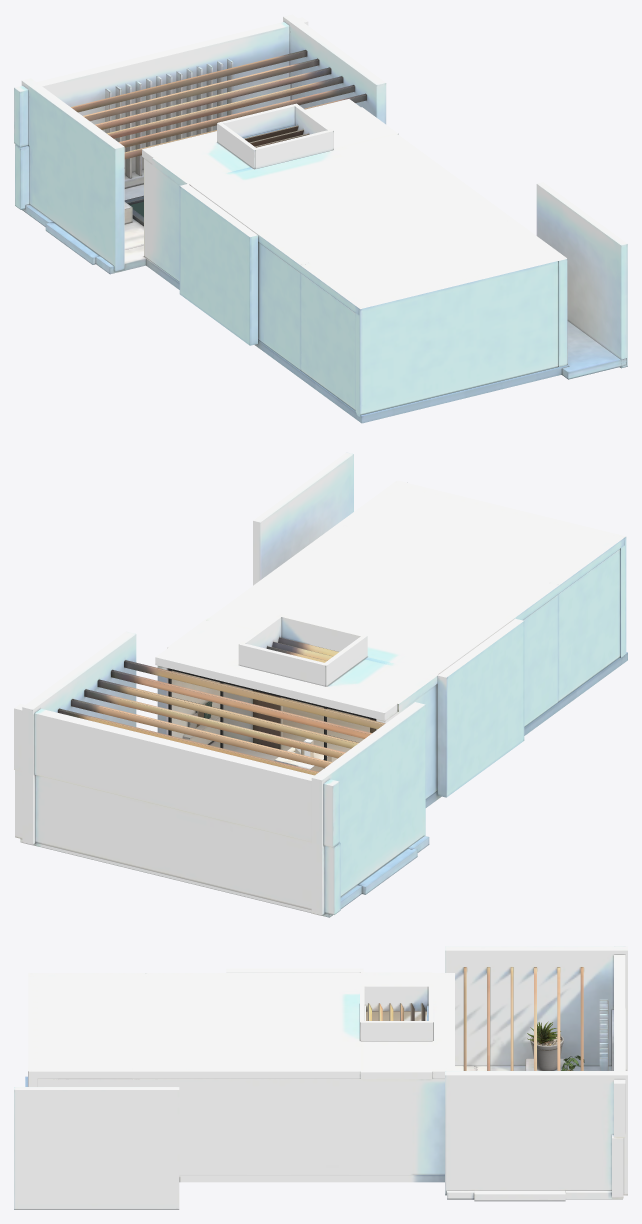
File: studio_pov_mobile.glb
The picture shows the model from 3 angles, top to bottom: view 1: azimuth 30°, elevation 25°; view 2: azimuth 150°, elevation 25°; view 3: azimuth 270°, elevation 25°; orthographic projection. The views are drawn at different scales.
Parts seen in each view (by area): view 1: Set_01_Shell_Baked, Set_04_Courtyard_Baked, Set_02_Joinery_Baked; view 2: Set_01_Shell_Baked, Set_04_Courtyard_Baked, Set_02_Joinery_Baked, Set_03_Monoliths_Baked; view 3: Set_01_Shell_Baked, Set_04_Courtyard_Baked, Set_02_Joinery_Baked, PH_Courtyard_Plant_W1.
Part boxes in pixels (x1=…): Set_01_Shell_Baked: x1=142, y1=99, x2=569, y2=423; Set_04_Courtyard_Baked: x1=14, y1=14, x2=627, y2=379; Set_02_Joinery_Baked: x1=71, y1=50, x2=366, y2=159; Set_01_Shell_Baked: x1=155, y1=480, x2=627, y2=807; Set_04_Courtyard_Baked: x1=14, y1=452, x2=429, y2=917; Set_02_Joinery_Baked: x1=58, y1=637, x2=385, y2=775; Set_03_Monoliths_Baked: x1=183, y1=701, x2=331, y2=771; Set_01_Shell_Baked: x1=25, y1=968, x2=454, y2=1182; Set_04_Courtyard_Baked: x1=14, y1=946, x2=627, y2=1209; Set_02_Joinery_Baked: x1=368, y1=967, x2=583, y2=1070; PH_Courtyard_Plant_W1: x1=527, y1=1021, x2=563, y2=1070.
Bounding box in the file's own units: 13.35 × 5.71 × 24.15.
Materials: 16 (13 with a texture image).
